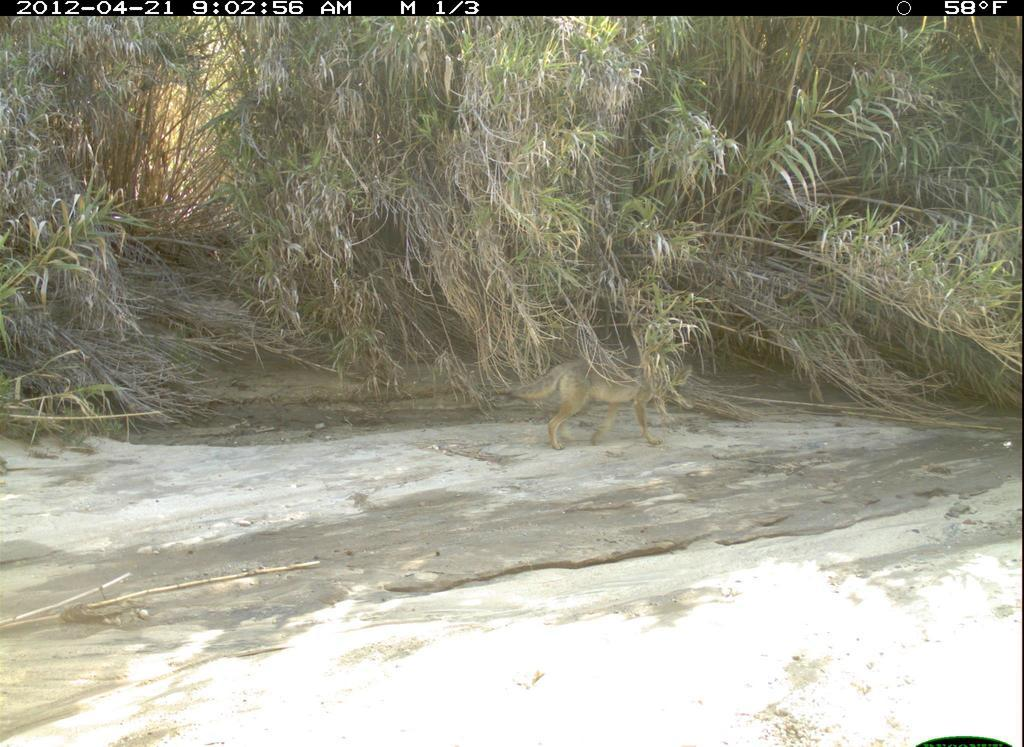coyote: (510, 350, 698, 455)
